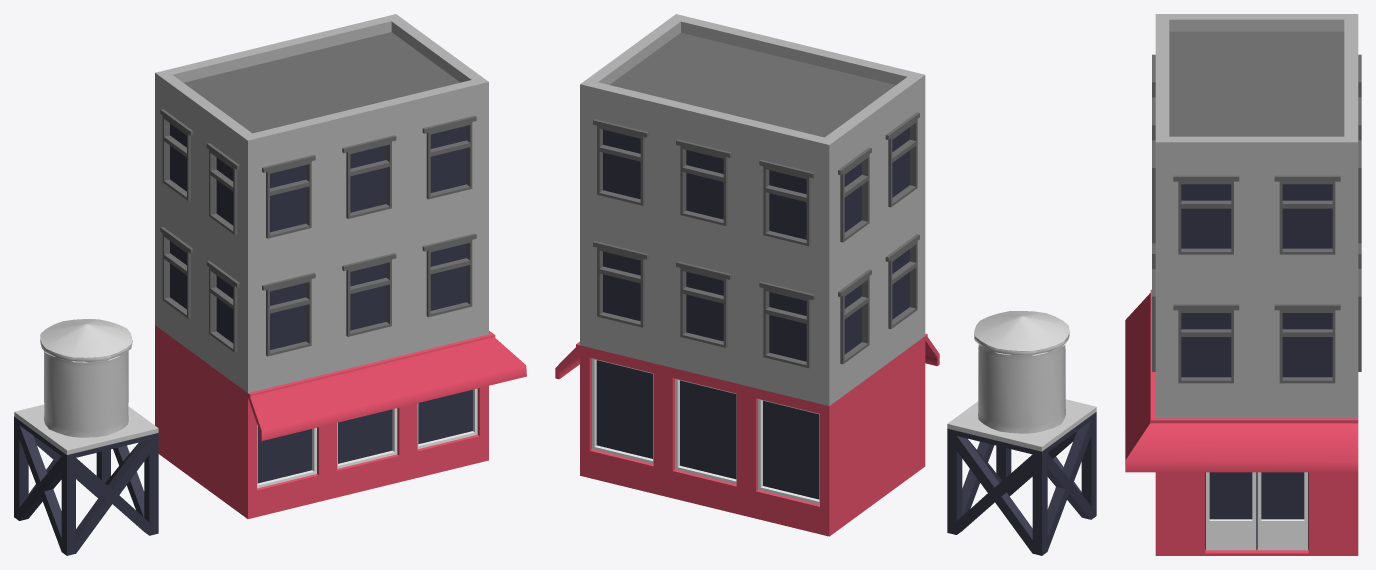
The picture shows the model from 3 angles, left to right: view 1: azimuth 30°, elevation 25°; view 2: azimuth 150°, elevation 25°; view 3: azimuth 270°, elevation 25°; orthographic projection. The views are drawn at different scales.
Parts seen in each view (by area): view 1: Main building, Ground floor, Window glass, Window frames, Roof, Marquee, Water tank, Legs, Window frame; view 2: Main building, Window glass, Ground floor, Window frames, Roof, Water tank, Legs, Window frame, Marquee; view 3: Main building, Roof, Window glass, Marquee, Window frames, Ground floor, Door.
Part boxes in pixels (x1=…): Main building: x1=155, y1=14, x2=488, y2=392; Ground floor: x1=155, y1=325, x2=488, y2=518; Window glass: x1=170, y1=123, x2=472, y2=483; Window frames: x1=160, y1=109, x2=476, y2=356; Roof: x1=183, y1=32, x2=459, y2=133; Marquee: x1=248, y1=331, x2=526, y2=440; Water tank: x1=14, y1=319, x2=158, y2=454; Legs: x1=14, y1=416, x2=158, y2=555; Window frame: x1=257, y1=388, x2=477, y2=488; Main building: x1=580, y1=14, x2=925, y2=405; Window glass: x1=596, y1=127, x2=909, y2=499; Ground floor: x1=580, y1=336, x2=925, y2=536; Window frames: x1=593, y1=112, x2=919, y2=368; Roof: x1=610, y1=32, x2=895, y2=137; Water tank: x1=947, y1=311, x2=1096, y2=451; Legs: x1=947, y1=412, x2=1096, y2=555; Window frame: x1=592, y1=358, x2=819, y2=504; Marquee: x1=555, y1=333, x2=939, y2=379; Main building: x1=1155, y1=14, x2=1358, y2=418; Roof: x1=1169, y1=31, x2=1344, y2=136; Window glass: x1=1181, y1=184, x2=1332, y2=549; Marquee: x1=1125, y1=289, x2=1358, y2=472; Window frames: x1=1152, y1=54, x2=1361, y2=383; Ground floor: x1=1155, y1=472, x2=1358, y2=555; Door: x1=1206, y1=472, x2=1307, y2=550.
Size of the model in its own units: 0.1091 by 0.0901 by 0.0467.
